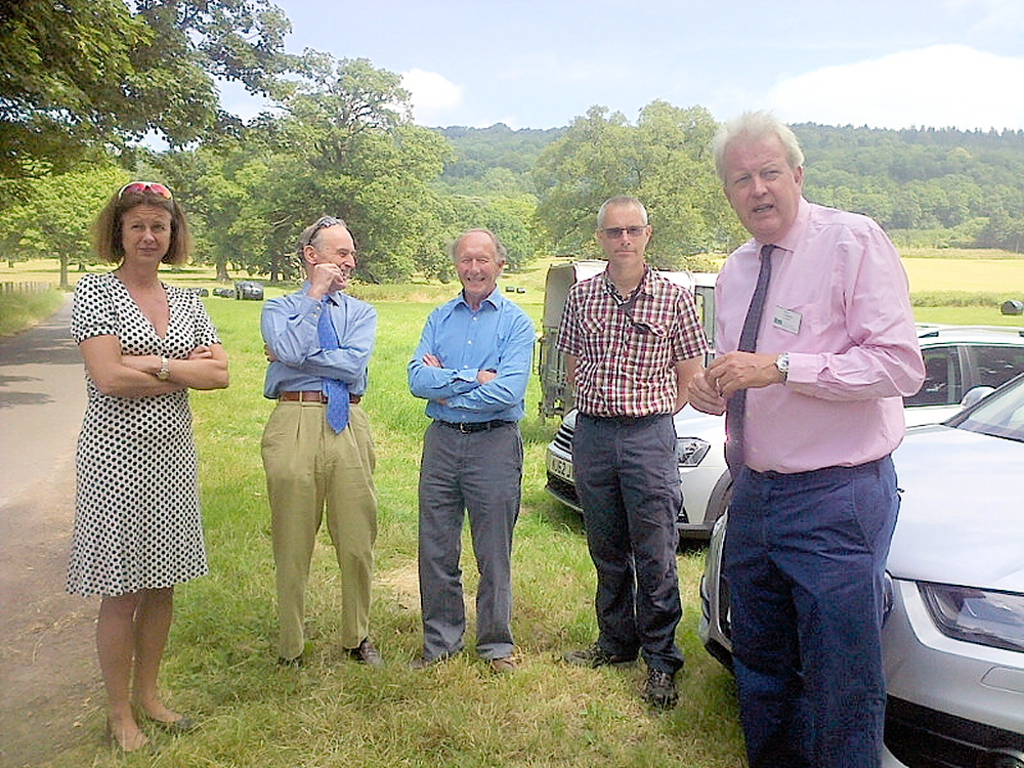Tree: (138, 38, 455, 288), (520, 93, 749, 270), (0, 0, 218, 148), (800, 118, 1022, 239), (0, 142, 140, 290), (460, 179, 536, 273)
